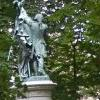Statue: (11, 6, 56, 83)
